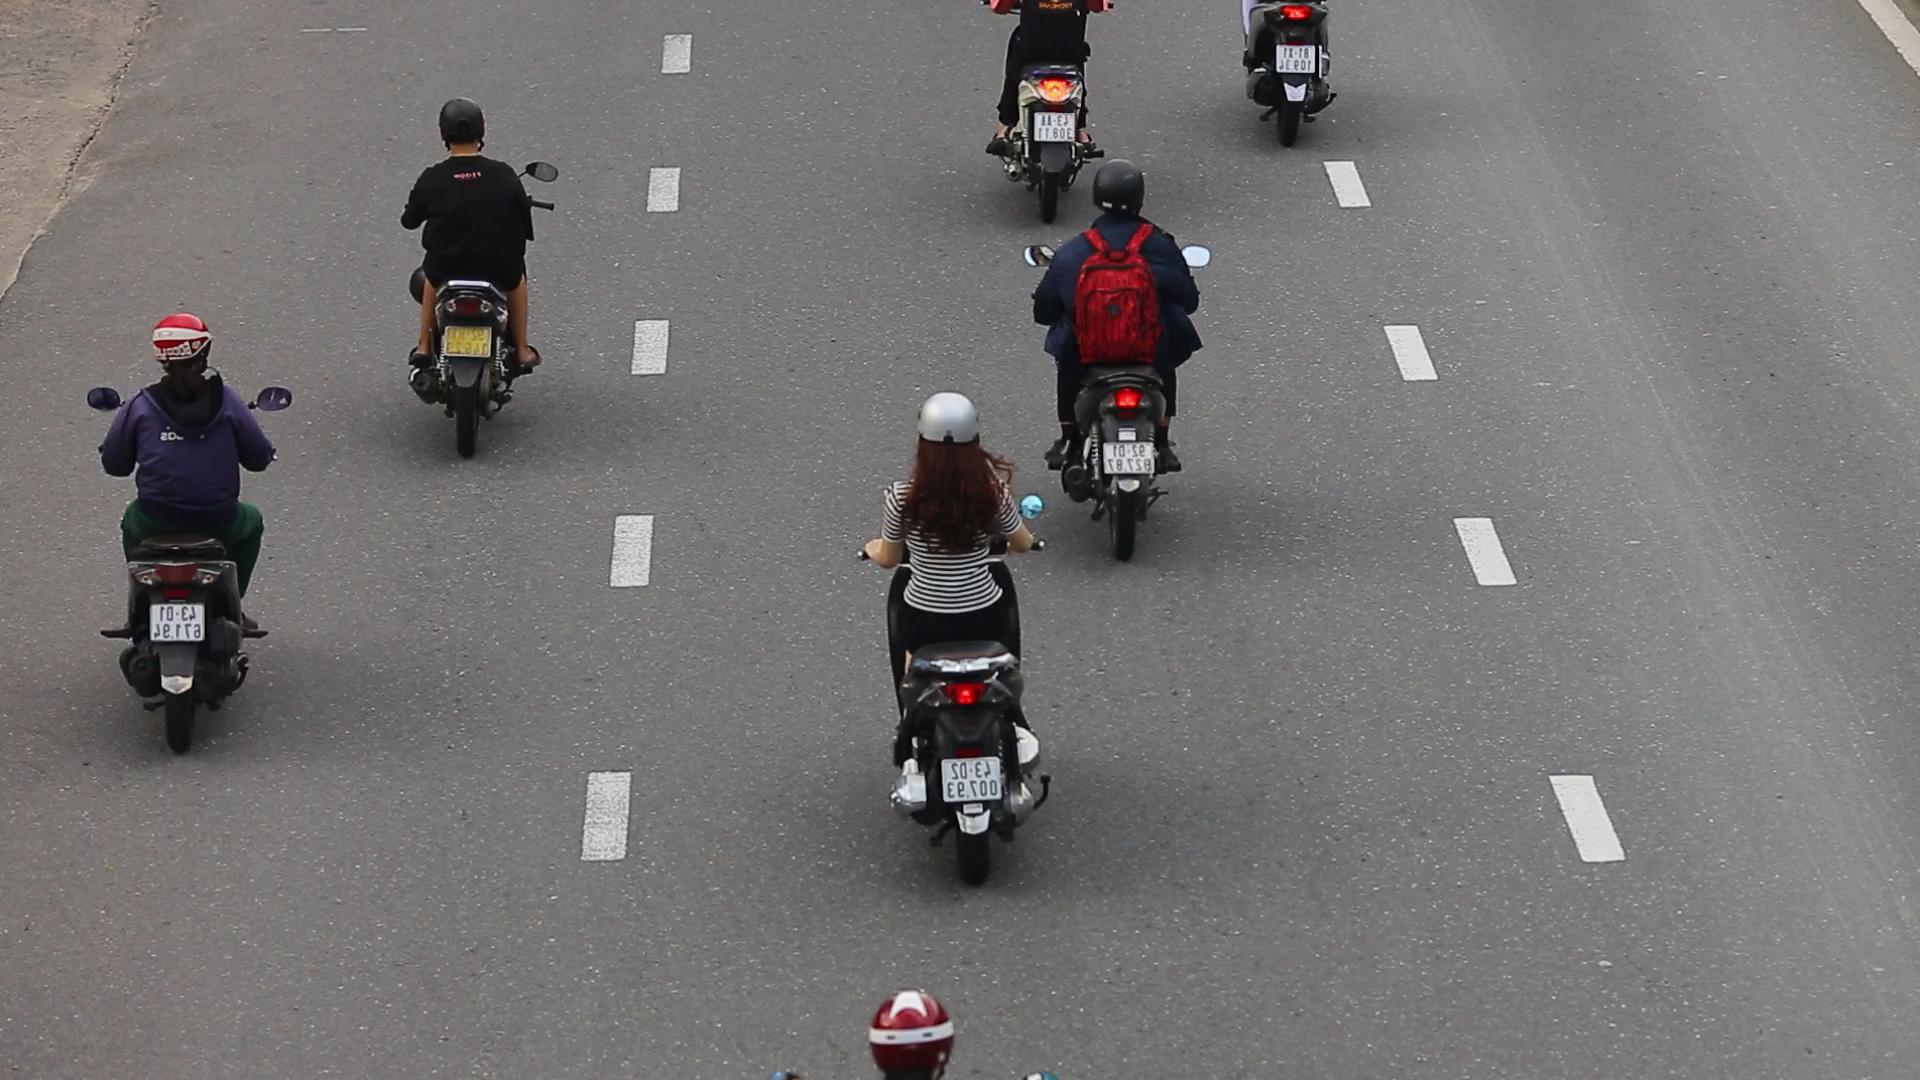motobike: (851, 369, 1065, 890), (88, 305, 294, 761), (1018, 160, 1208, 568), (385, 86, 564, 460)
